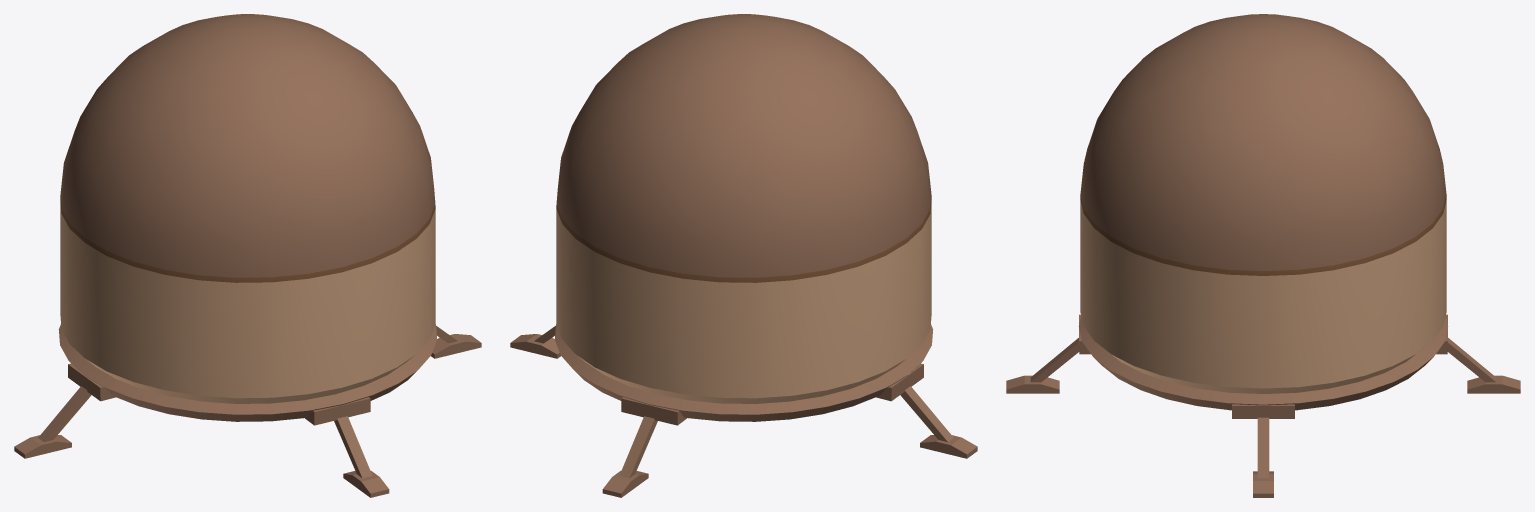
Rendered from house_cylinder.glb.
3 views of the same model, side by side, from view 1: azimuth 30°, elevation 25°; view 2: azimuth 150°, elevation 25°; view 3: azimuth 270°, elevation 25° (orthographic). The views are drawn at different scales.
Parts seen in each view (by area): view 1: House_Cylinder; view 2: House_Cylinder; view 3: House_Cylinder.
Part boxes in pixels (x1,y1,x2,y2): House_Cylinder: (14,14,481,497); House_Cylinder: (510,14,977,497); House_Cylinder: (1006,14,1520,497).
Bounding box in the file's own units: 5.61 × 4.32 × 5.61.
1 material, 1 textured.
